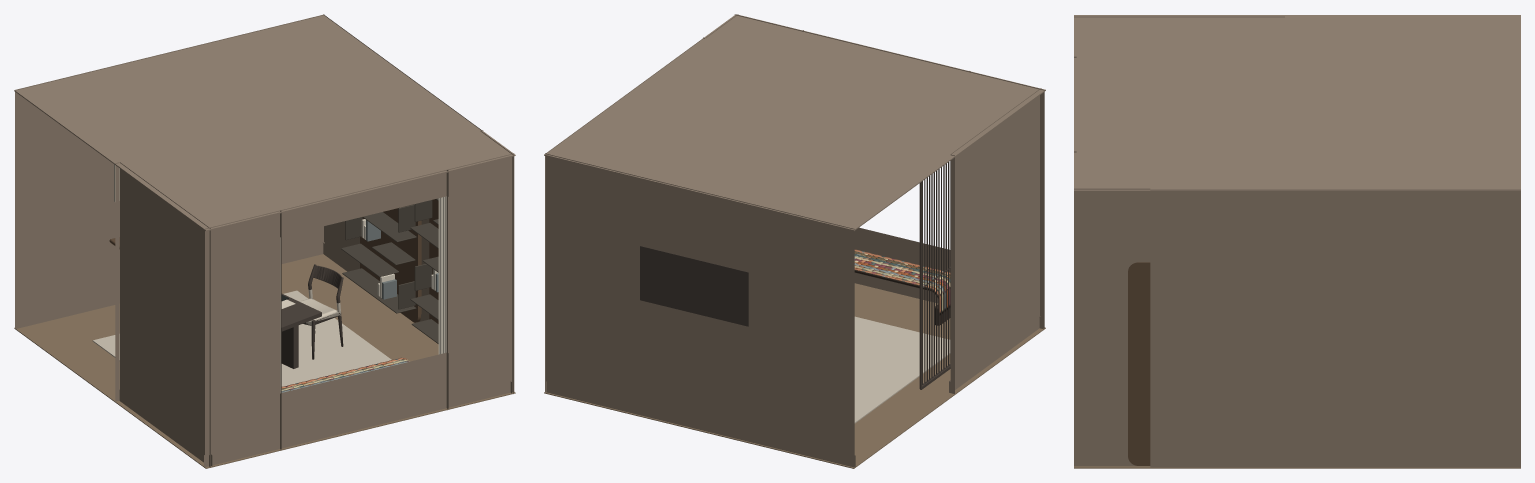
File: formal-1.glb
3 renders of one model, left to right at view 1: azimuth 30°, elevation 25°; view 2: azimuth 150°, elevation 25°; view 3: azimuth 270°, elevation 25°, orthographic. The views are drawn at different scales.
Visible parts, largest first — view 1: DESIGN | formal removable wall finish, DESIGN | formal ceiling finish, DESIGN | formal floor finish, DESIGN | Required Blabla bookcase 2, DESIGN | Formal ground, DESIGN | Required Blabla bookcase 1, DESIGN | Formal soft window edge.001, DESIGN | Working chair facing desk, DESIGN | Required Brera anniversary window bench, DESIGN | Working desk top, DESIGN | Working desk trestle.001; view 2: DESIGN | formal removable wall finish, DESIGN | formal ceiling finish, DESIGN | formal floor finish, DESIGN | Quiet artwork frame, DESIGN | Formal ground, DESIGN | Kumiko | Study light-filter beside the entry, DESIGN | Required Brera anniversary window bench; view 3: DESIGN | formal removable wall finish, DESIGN | formal ceiling finish, DESIGN | Required Blabla bookcase 1, DESIGN | formal floor finish.
Boxes of the visible parts, left/top/right/bottom form: DESIGN | formal removable wall finish: left=15, top=14, right=514, bottom=466; DESIGN | formal ceiling finish: left=14, top=15, right=515, bottom=231; DESIGN | formal floor finish: left=14, top=254, right=515, bottom=468; DESIGN | Required Blabla bookcase 2: left=341, top=204, right=421, bottom=322; DESIGN | Formal ground: left=92, top=290, right=391, bottom=386; DESIGN | Required Blabla bookcase 1: left=410, top=198, right=438, bottom=343; DESIGN | Formal soft window edge.001: left=438, top=196, right=446, bottom=354; DESIGN | Working chair facing desk: left=299, top=264, right=343, bottom=359; DESIGN | Required Brera anniversary window bench: left=281, top=357, right=409, bottom=392; DESIGN | Working desk top: left=281, top=293, right=321, bottom=331; DESIGN | Working desk trestle.001: left=281, top=325, right=298, bottom=368; DESIGN | formal removable wall finish: left=545, top=14, right=1044, bottom=467; DESIGN | formal ceiling finish: left=544, top=14, right=1045, bottom=231; DESIGN | formal floor finish: left=544, top=283, right=1045, bottom=468; DESIGN | Quiet artwork frame: left=640, top=246, right=748, bottom=326; DESIGN | Formal ground: left=854, top=316, right=950, bottom=423; DESIGN | Kumiko | Study light-filter beside the entry: left=919, top=161, right=950, bottom=389; DESIGN | Required Brera anniversary window bench: left=854, top=249, right=950, bottom=325; DESIGN | formal removable wall finish: left=1074, top=16, right=1520, bottom=467; DESIGN | formal ceiling finish: left=1074, top=15, right=1520, bottom=191; DESIGN | Required Blabla bookcase 1: left=1128, top=262, right=1150, bottom=465; DESIGN | formal floor finish: left=1074, top=466, right=1520, bottom=468.
Size of the model in its own units: 3.71 by 2.74 by 3.98.
